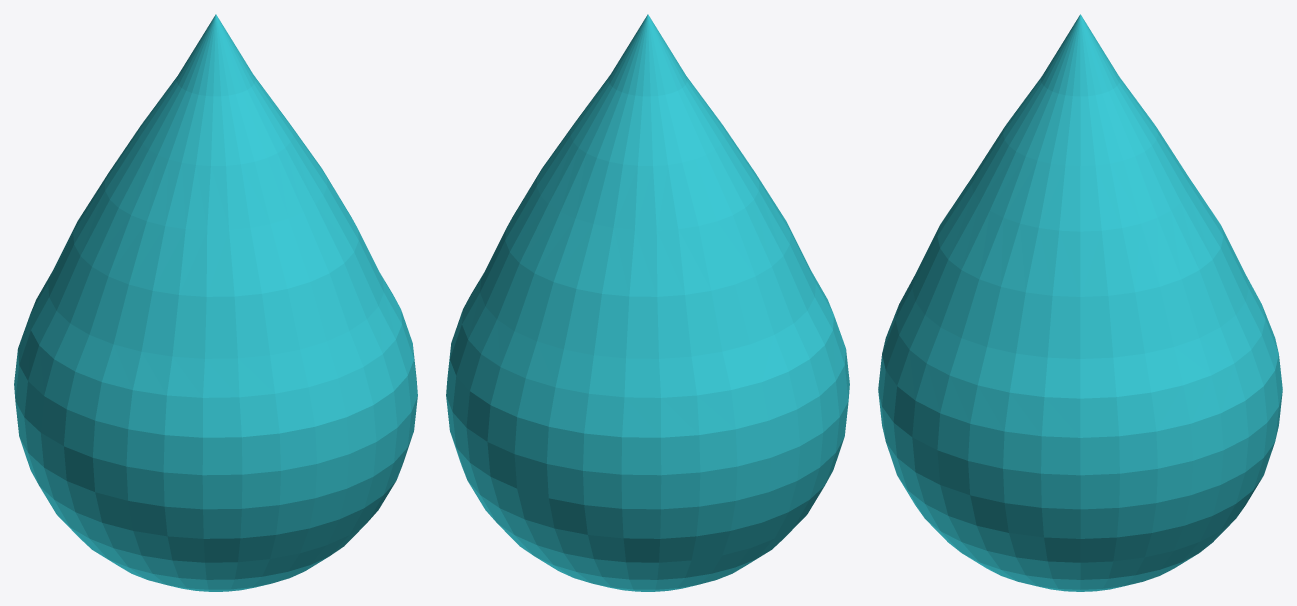
The model's file is playerSweat.obj.
3 views of the same model, side by side, from view 1: azimuth 30°, elevation 25°; view 2: azimuth 150°, elevation 25°; view 3: azimuth 270°, elevation 25° (orthographic).
Visible parts, largest first — view 1: 球; view 2: 球; view 3: 球.
Boxes of the visible parts, bbox=[...] form: 球: bbox=[14, 14, 417, 591]; 球: bbox=[446, 14, 849, 591]; 球: bbox=[878, 14, 1282, 591].
Bounding box in the file's own units: 0.2 × 0.3049 × 0.2.
1 material, 1 textured.
